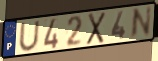2: (66, 15, 84, 48)
4: (43, 17, 60, 50), (110, 9, 127, 41)
N: (129, 5, 153, 41)
U: (18, 20, 41, 53)
X: (85, 10, 107, 46)
